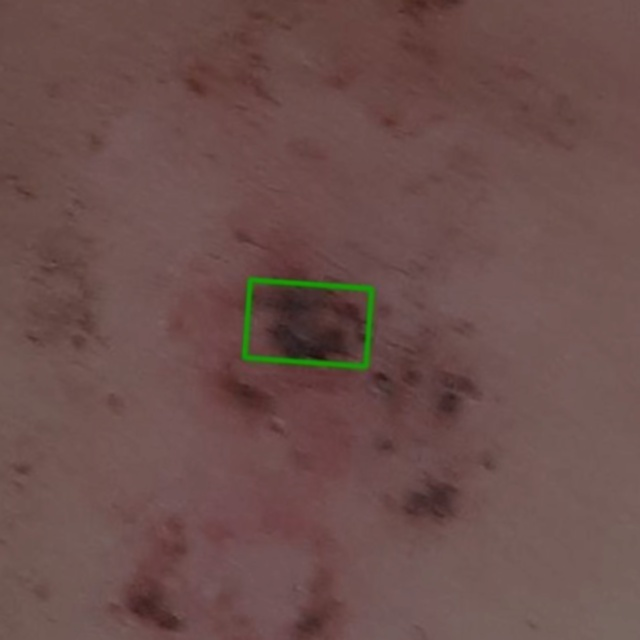Contact Dermatitis: (244, 280, 371, 366)
